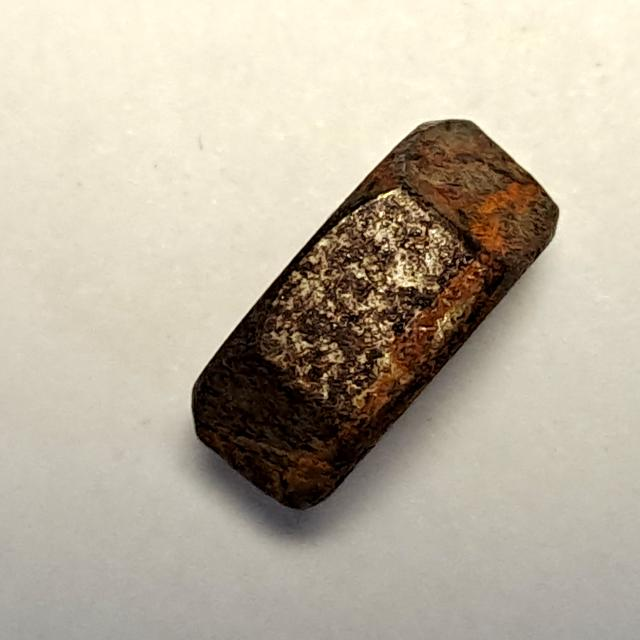Side_Rust: (179, 111, 572, 528)
